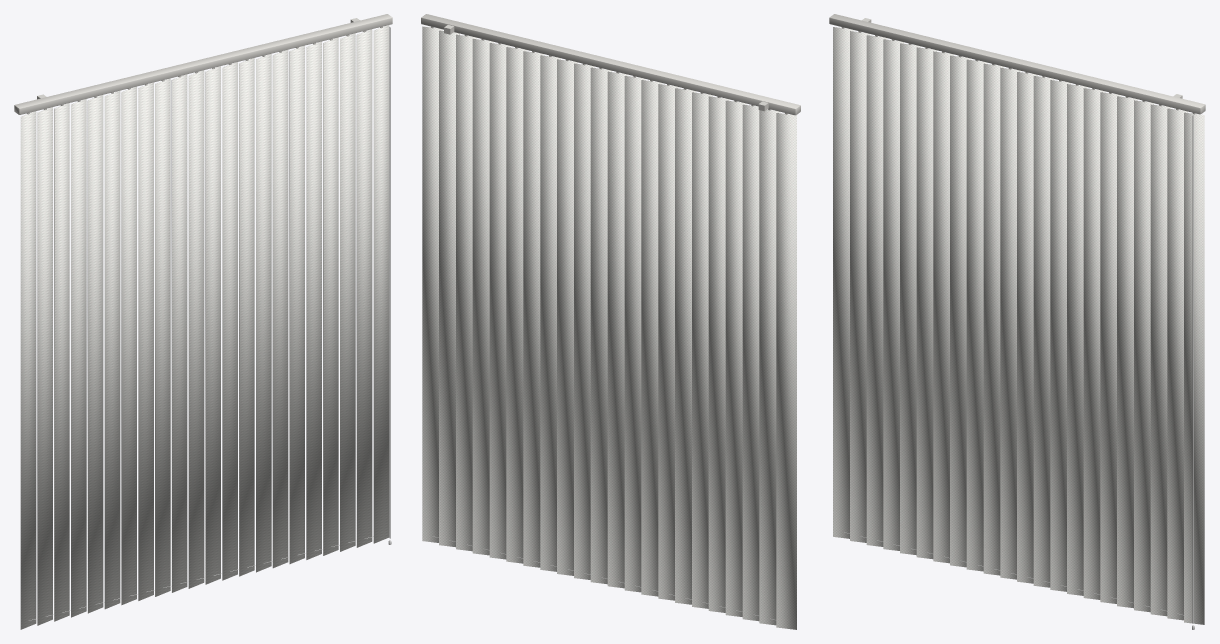
File: cortina_vertical_180_c100.glb
3 renders of one model, left to right at view 1: azimuth 30°, elevation 25°; view 2: azimuth 150°, elevation 25°; view 3: azimuth 330°, elevation 25°, orthographic.
Visible parts, largest first — view 1: cortina_vertical_180_c100; view 2: cortina_vertical_180_c100; view 3: cortina_vertical_180_c100.
Boxes of the visible parts, x1,y1,x2,y2 form: cortina_vertical_180_c100: (14,14,392,629); cortina_vertical_180_c100: (421,14,800,629); cortina_vertical_180_c100: (829,14,1205,629).
Bounding box in the file's own units: 1.79 × 2.4 × 0.0996.
Materials: 3 (1 with a texture image).
